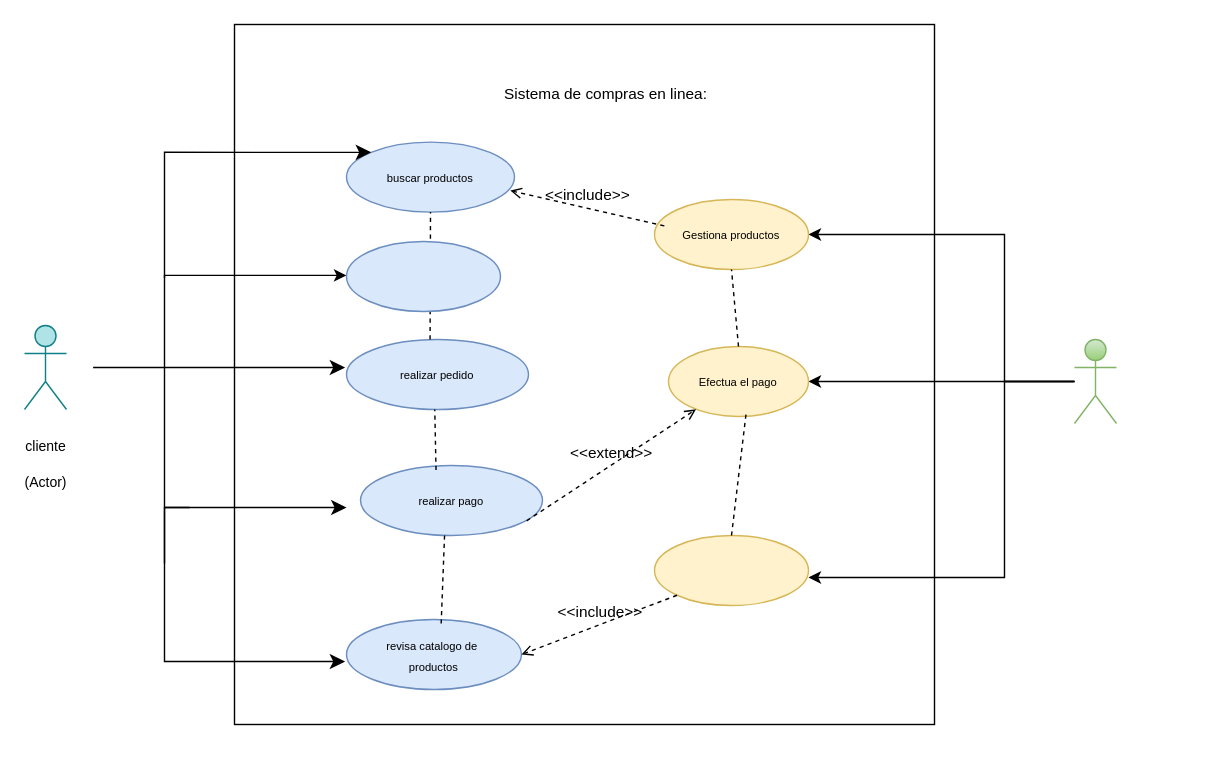
The diagram is 1222 pixels wide and 760 high, and some of its shapes have lost their labels. Here are the shapes that lost their labels. From the top down, the centre of each, then its label:
At [422,276]: "añadir al carrito".
At [1094,381]: "administrador (Actor)".
At [730,570]: "Gestiona precios".
